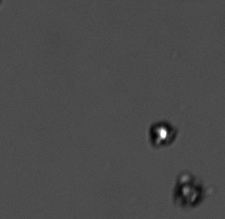Dead Cell: (173, 174, 205, 207)
Living Cell: (149, 120, 175, 148)
